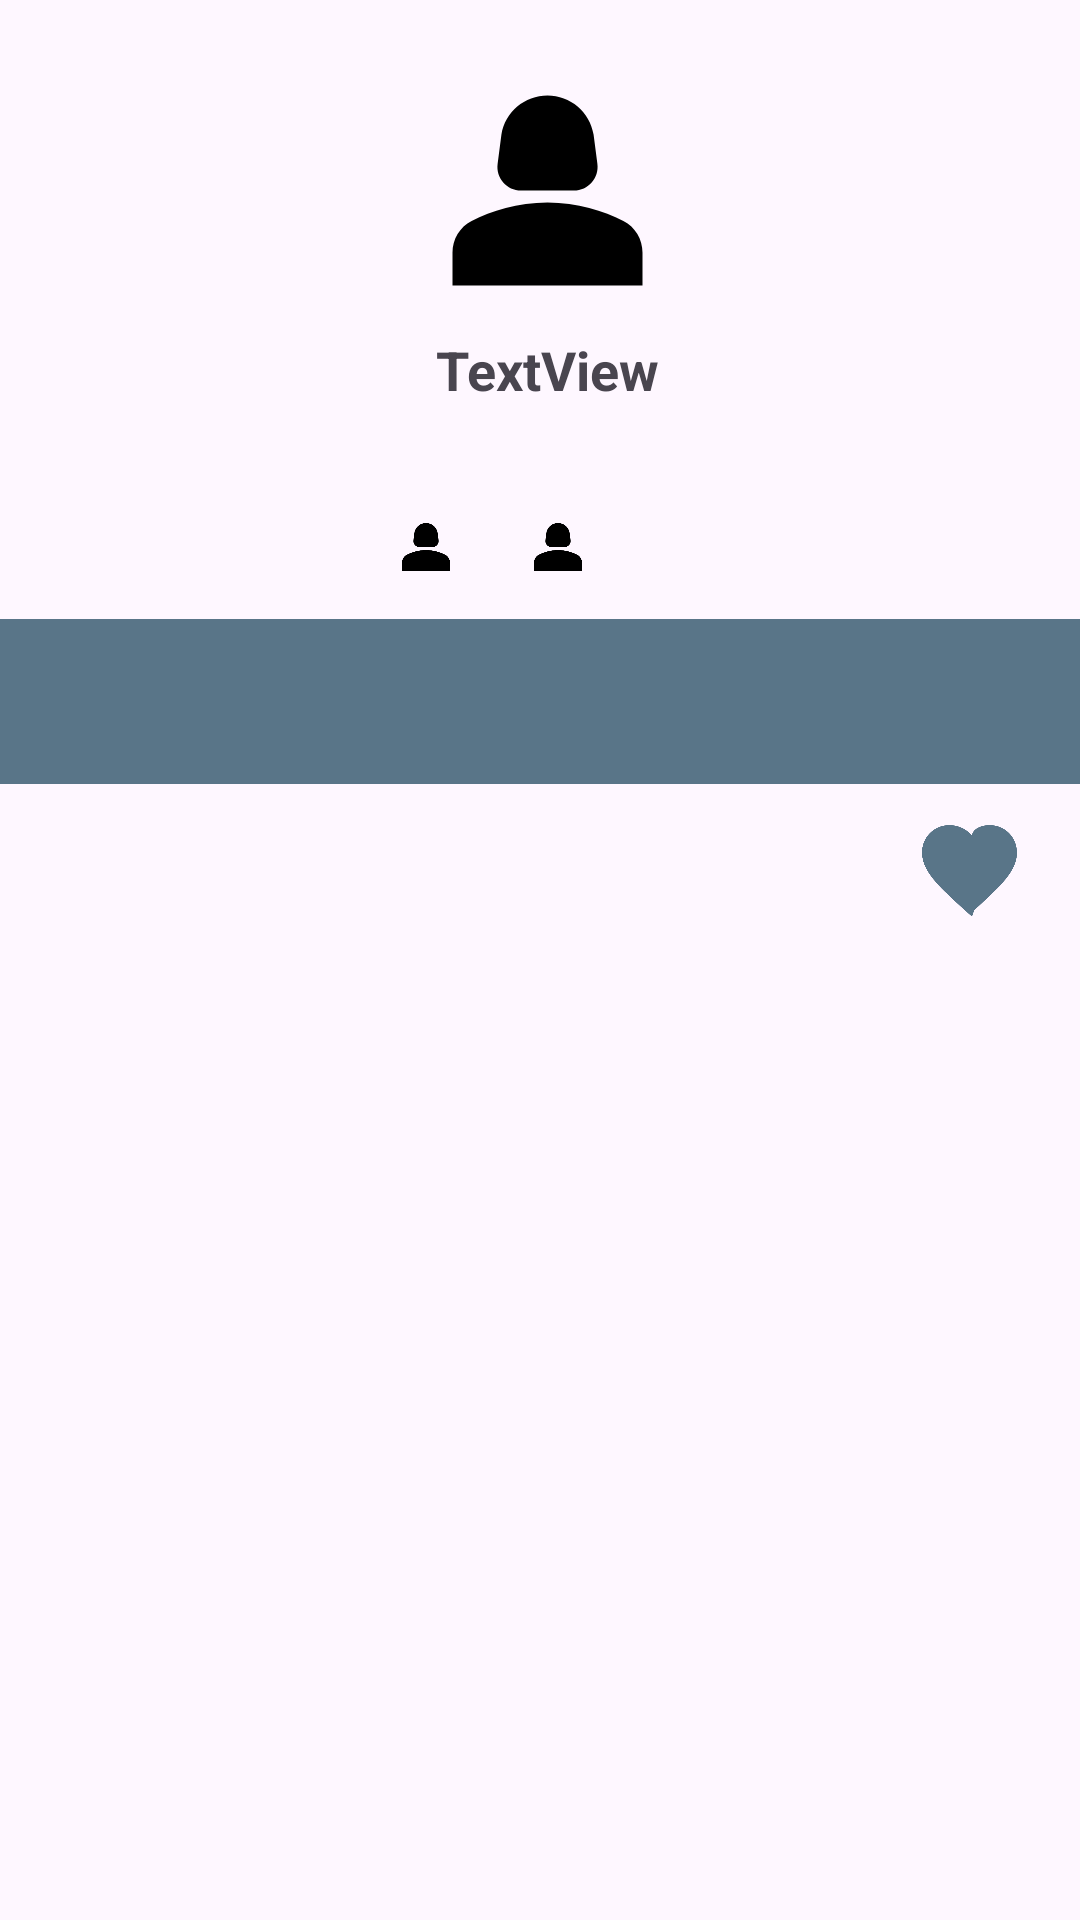

Named icons in this screenshot (1080px x 1920px) and their centers, (x=x, y=y):
favorite toggle: (x=969, y=870)
person: (x=547, y=190)
